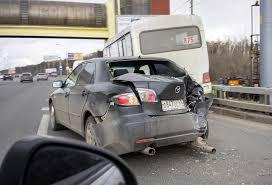boot-dent: (127, 62, 189, 110)
quaterpanel-dent: (88, 89, 122, 126)
